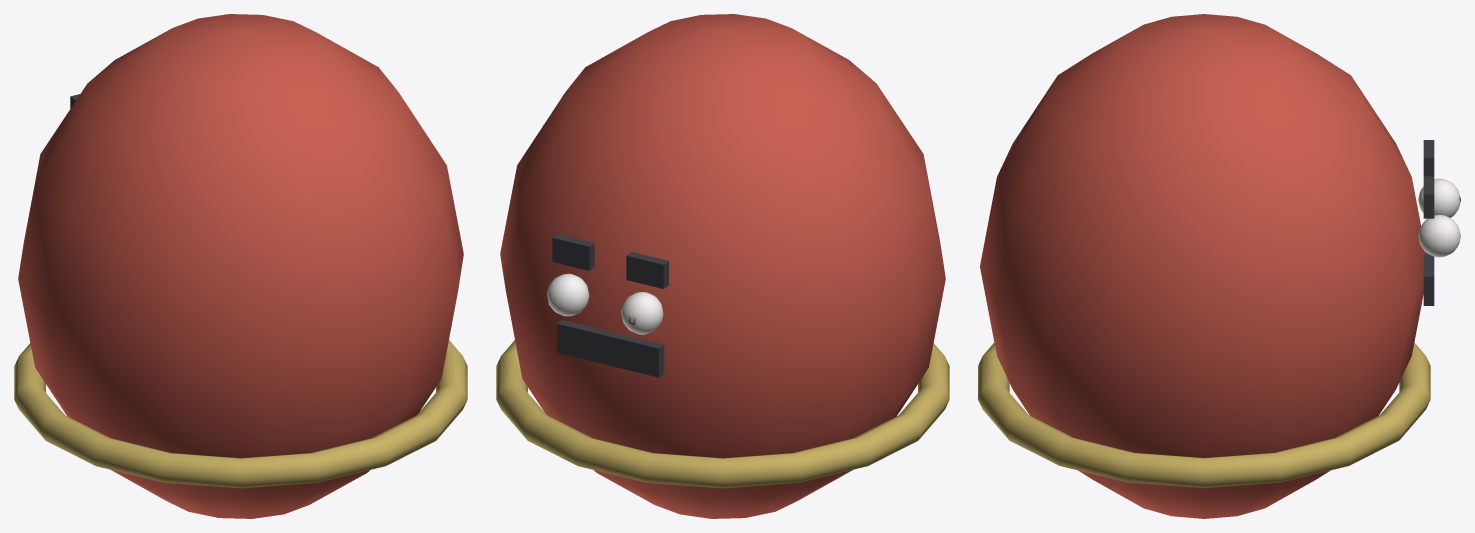
Rendered from prop_daruma.glb.
3 renders of one model, left to right at view 1: azimuth 30°, elevation 25°; view 2: azimuth 150°, elevation 25°; view 3: azimuth 270°, elevation 25°, orthographic.
Visible parts, largest first — view 1: daruma; view 2: daruma; view 3: daruma.
Part boxes in pixels (x1,y1,x2,y2): daruma: [14, 14, 467, 518]; daruma: [496, 14, 949, 518]; daruma: [978, 14, 1460, 518].
Bounding box in the file's own units: 0.86 × 0.966 × 0.9035.
